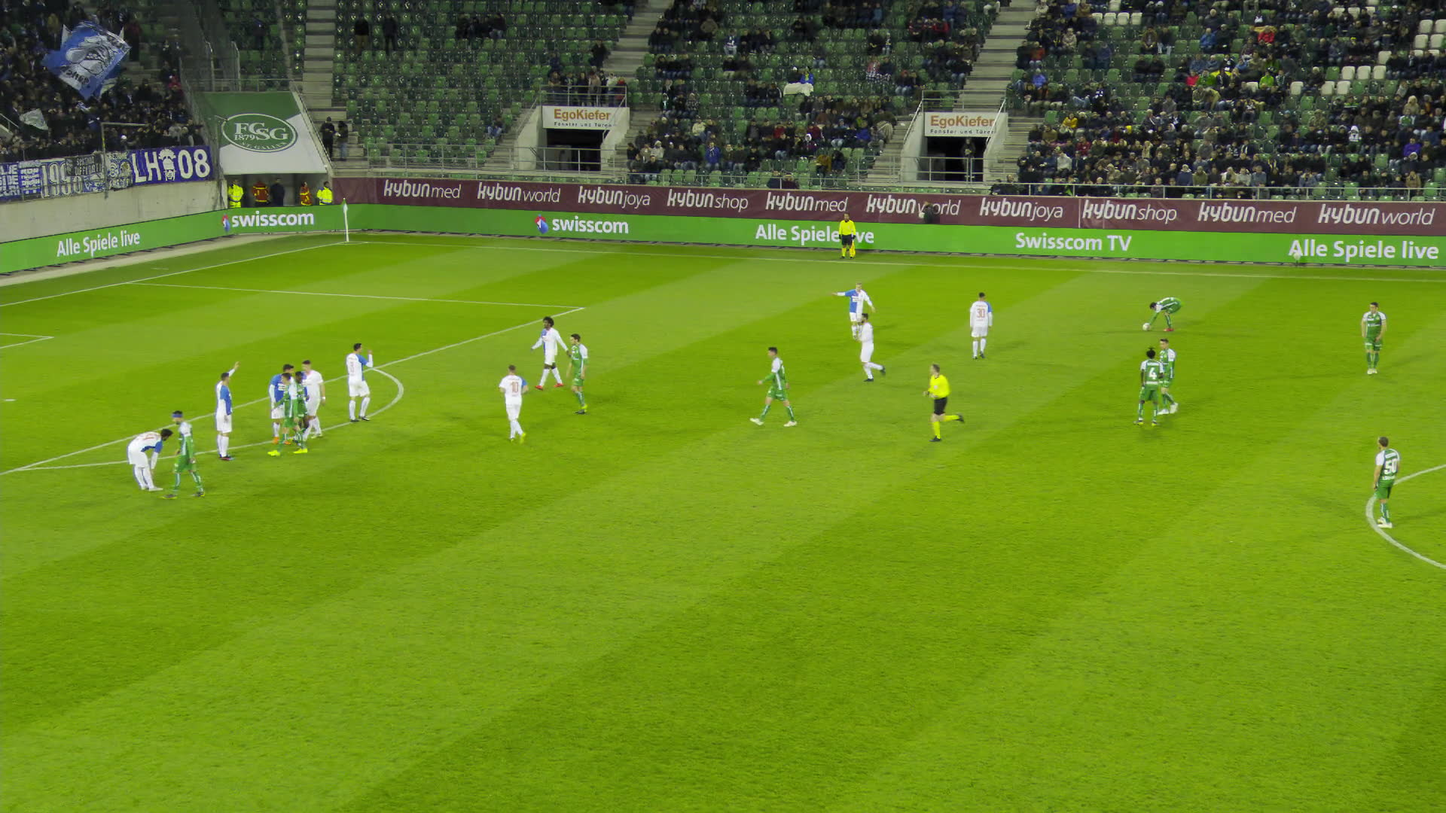ball: (1142, 323, 1148, 329)
player: (163, 409, 209, 498), (755, 346, 799, 425), (273, 372, 310, 455), (129, 428, 173, 491), (532, 315, 569, 388), (1369, 434, 1397, 527), (216, 360, 240, 459), (564, 333, 593, 414), (831, 282, 874, 336), (1132, 346, 1161, 426), (501, 365, 529, 442), (346, 343, 373, 422), (856, 311, 886, 381), (1357, 301, 1385, 373), (301, 359, 326, 439), (270, 364, 293, 444), (1155, 338, 1179, 414), (969, 292, 992, 361), (291, 370, 308, 442), (1145, 297, 1181, 330)
referee: (925, 362, 963, 440), (837, 212, 854, 259)
